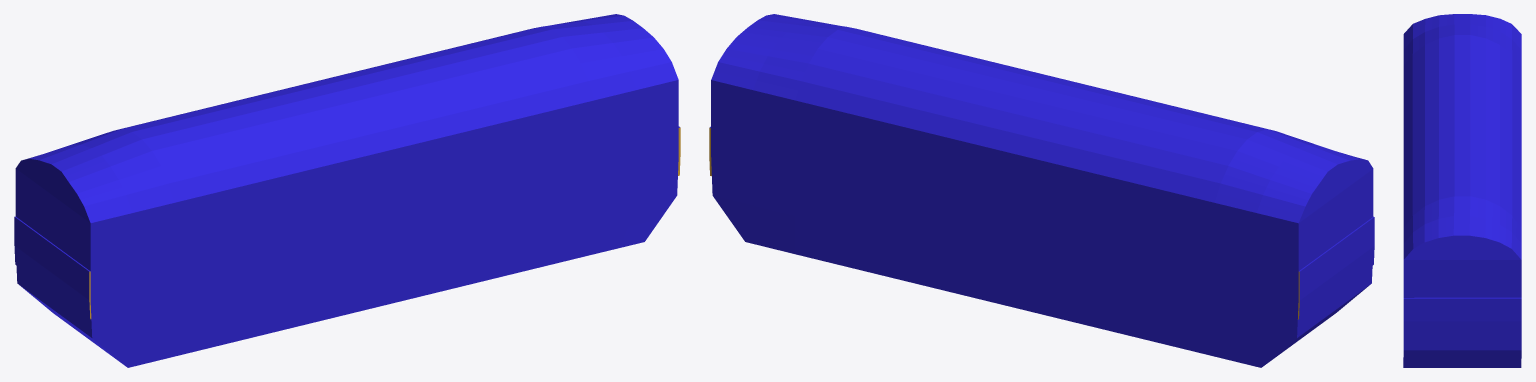
Rendered from utas.glb.
The picture shows the model from 3 angles, left to right: view 1: azimuth 30°, elevation 25°; view 2: azimuth 150°, elevation 25°; view 3: azimuth 270°, elevation 25°; orthographic projection. The views are drawn at different scales.
Parts seen in each view (by area): view 1: Engine; view 2: Engine; view 3: Engine.
Part boxes in pixels (bbox=[...]): Engine: bbox=[14, 14, 680, 367]; Engine: bbox=[709, 14, 1374, 367]; Engine: bbox=[1403, 14, 1521, 367].
Size of the model in its own units: 14.08 by 4.41 by 3.1.
